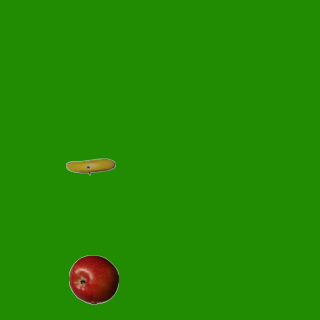Apple Braeburn: (68, 254, 118, 304)
Banana: (65, 141, 115, 191)
